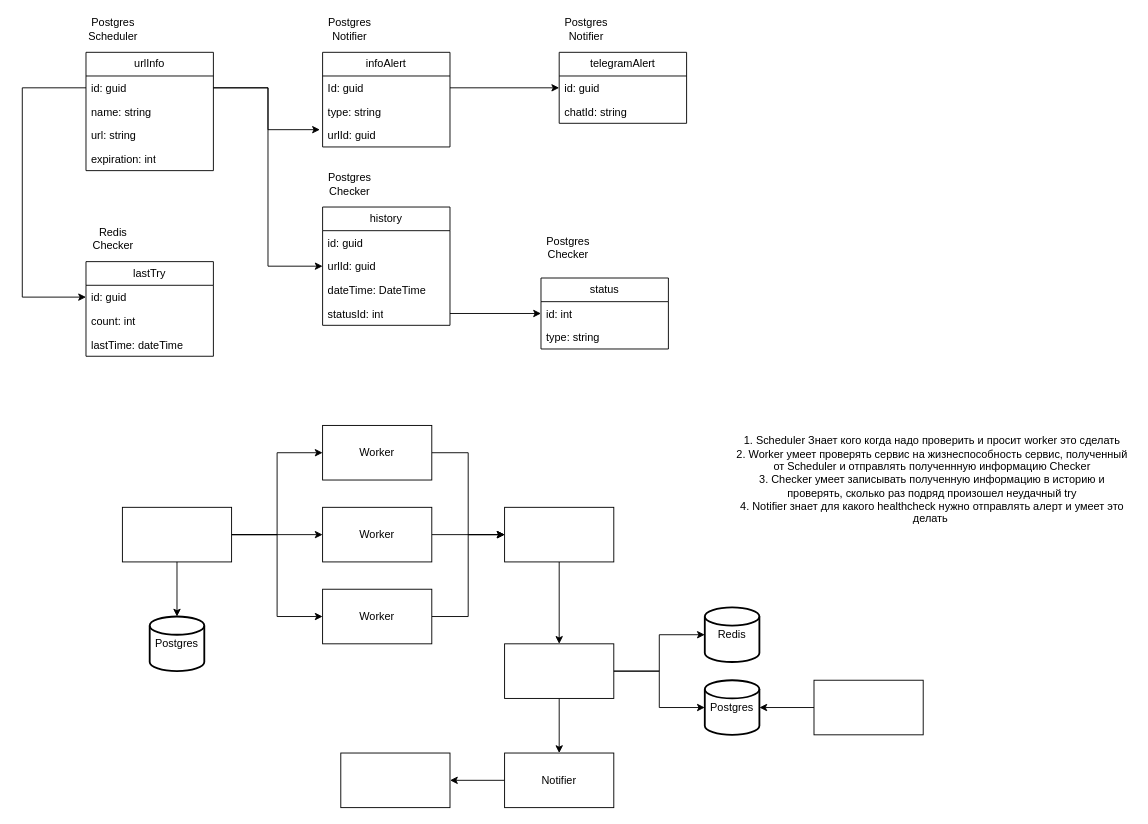
The diagram is 1148 pixels wide and 824 high, and some of its shapes have lost their labels. The shapes that lost their labels are listed below. From the top down, each one's centre as x and y in pixels, then its label:
At (176,534): "Scheduler".
At (559,534): "Kafka".
At (559,670): "Checker".
At (868,707): "Grafana".
At (395,780): "Telegram".
